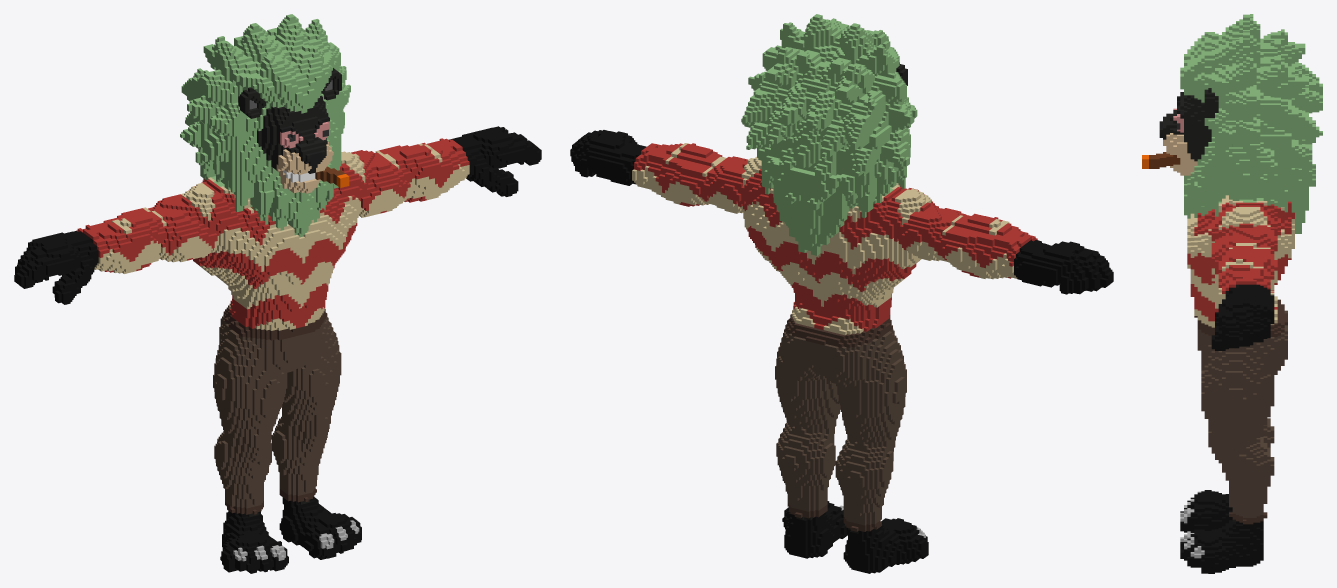
The picture shows the model from 3 angles, left to right: view 1: azimuth 30°, elevation 25°; view 2: azimuth 150°, elevation 25°; view 3: azimuth 270°, elevation 25°; orthographic projection. The views are drawn at different scales.
Visible parts, largest first — view 1: cigar; view 2: cigar; view 3: cigar.
Part boxes in pixels (left/top/right/bottom): cigar: left=14, top=14, right=541, bottom=573; cigar: left=570, top=14, right=1113, bottom=573; cigar: left=1142, top=14, right=1322, bottom=573.
Bounding box in the file's own units: 17.2 × 16.5 × 5.2.
5 materials, 5 textured.
